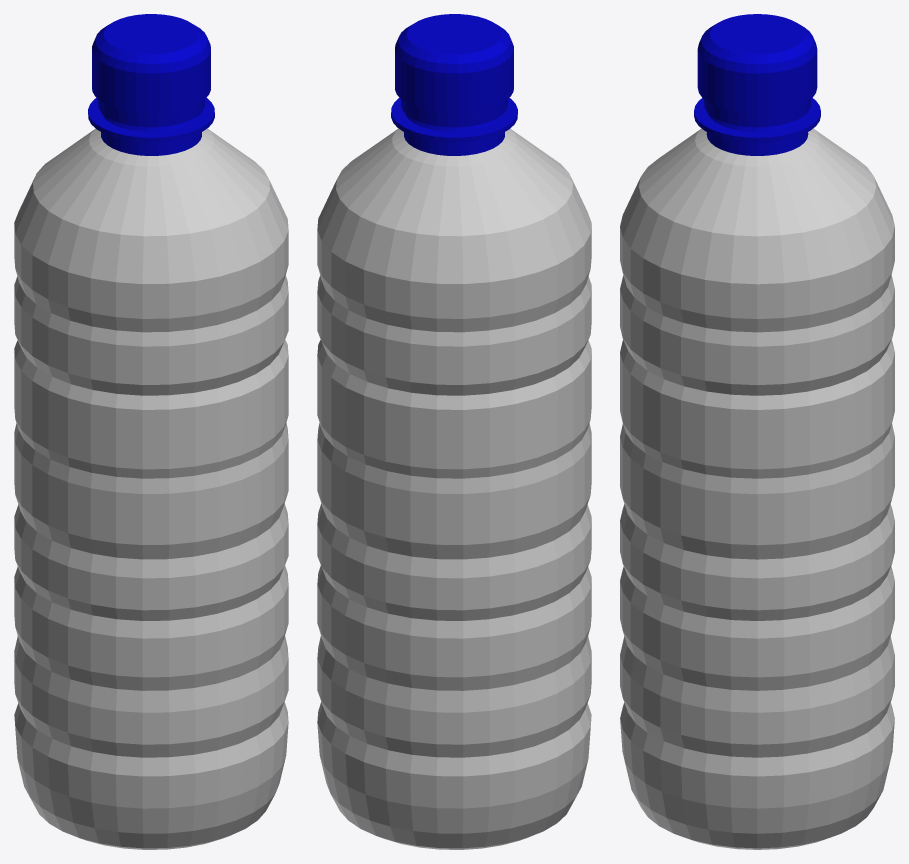
File: bootle.obj
3 renders of one model, left to right at view 1: azimuth 30°, elevation 25°; view 2: azimuth 150°, elevation 25°; view 3: azimuth 270°, elevation 25°, orthographic.
Visible parts, largest first — view 1: Cylinder.002, Cylinder; view 2: Cylinder.002, Cylinder; view 3: Cylinder.002, Cylinder.
Boxes of the visible parts, x1,y1,x2,y2 form: Cylinder.002: (14, 128, 288, 849); Cylinder: (88, 14, 214, 155); Cylinder.002: (317, 128, 591, 849); Cylinder: (391, 14, 517, 155); Cylinder.002: (620, 128, 894, 849); Cylinder: (694, 14, 820, 155).
Size of the model in its own units: 2 by 6.19 by 2.
